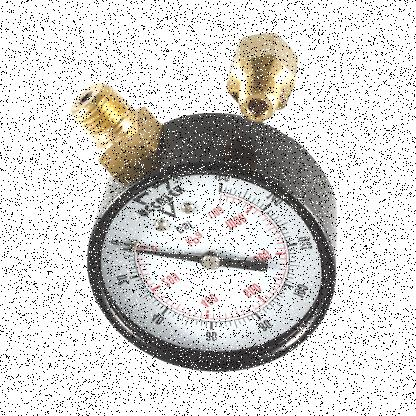needle: (121, 247, 202, 263)
